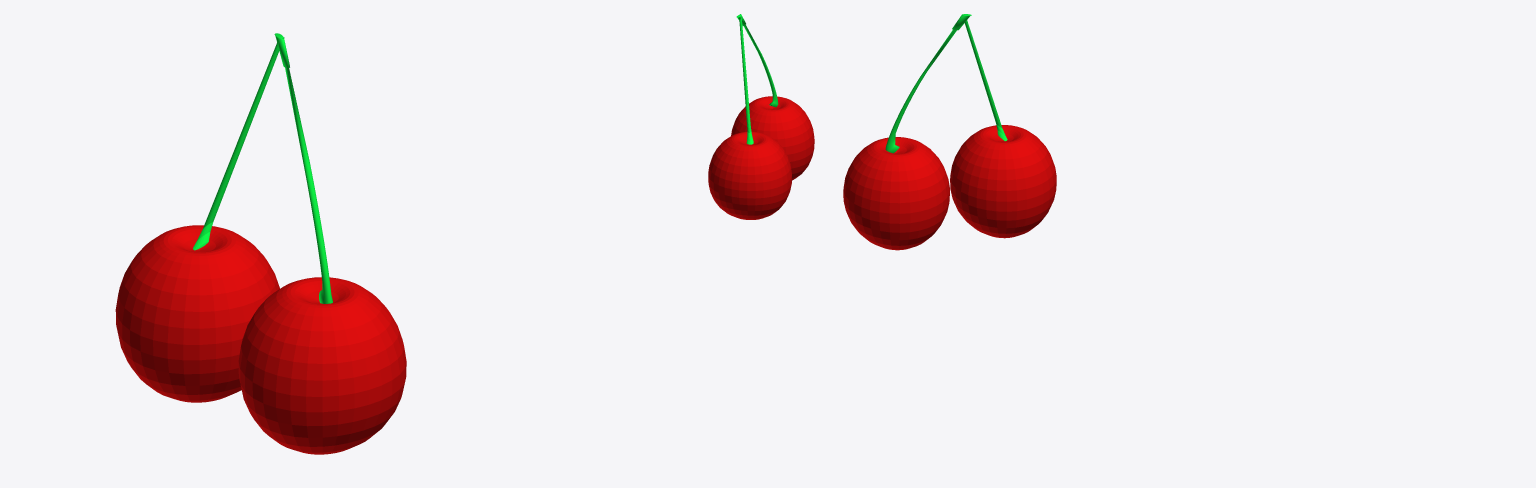
Rendered from EGGPLANT.fbx.
3 renders of one model, left to right at view 1: azimuth 30°, elevation 25°; view 2: azimuth 150°, elevation 25°; view 3: azimuth 270°, elevation 25°, orthographic. The views are drawn at different scales.
Parts seen in each view (by area): view 1: Sphere002, Sphere001, Cylinder002, Cylinder001; view 2: Sphere001, Sphere002, Cylinder001, Cylinder002; view 3: Sphere001, Sphere002, Cylinder002.
Part boxes in pixels (x1=…): Sphere002: x1=238, y1=277, x2=406, y2=454; Sphere001: x1=115, y1=225, x2=279, y2=402; Cylinder002: x1=274, y1=33, x2=332, y2=303; Cylinder001: x1=193, y1=37, x2=284, y2=250; Sphere001: x1=708, y1=131, x2=791, y2=219; Sphere002: x1=731, y1=96, x2=814, y2=180; Cylinder001: x1=739, y1=14, x2=753, y2=144; Cylinder002: x1=736, y1=14, x2=778, y2=107; Sphere001: x1=950, y1=125, x2=1056, y2=238; Sphere002: x1=843, y1=137, x2=949, y2=250; Cylinder002: x1=885, y1=14, x2=971, y2=153.
Size of the model in its own units: 4.44e+07 by 9.21e+07 by 1.39e+08.
